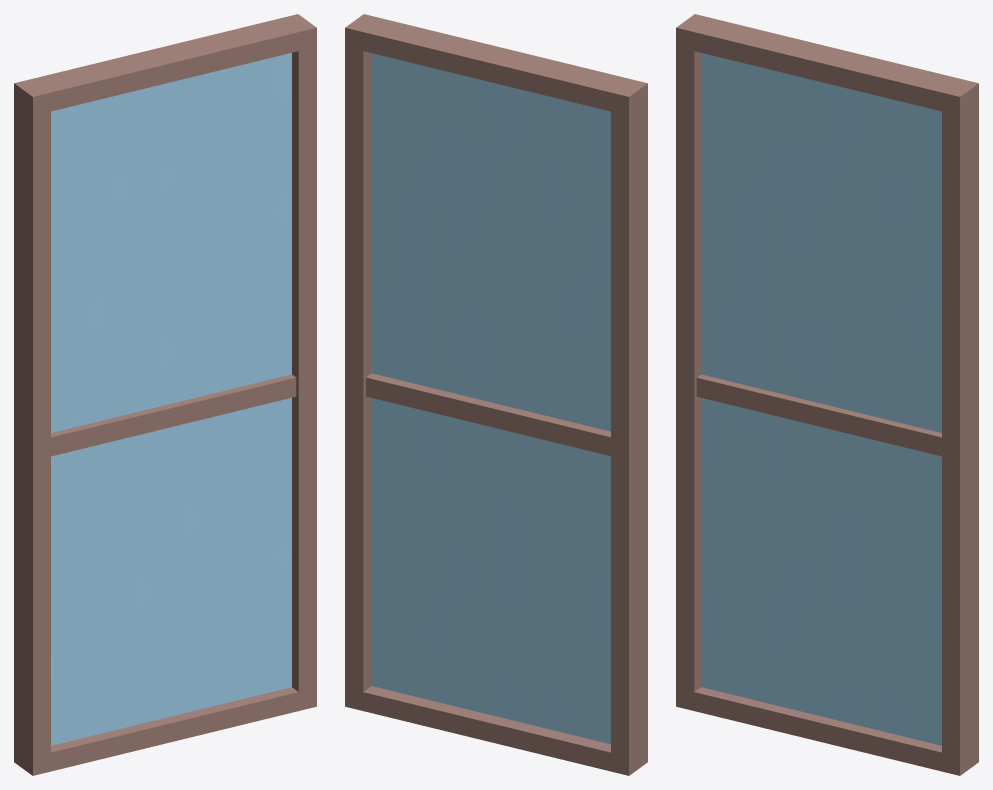
Rendered from window_030.fbx.
The picture shows the model from 3 angles, left to right: view 1: azimuth 30°, elevation 25°; view 2: azimuth 150°, elevation 25°; view 3: azimuth 330°, elevation 25°; orthographic projection.
Visible parts, largest first — view 1: window_030; view 2: window_030; view 3: window_030.
Boxes of the visible parts, <box> form: window_030: <box>14,14,316,775</box>; window_030: <box>345,14,647,775</box>; window_030: <box>676,14,978,775</box>.
Bounding box in the file's own units: 99.76 × 11.39 × 228.
